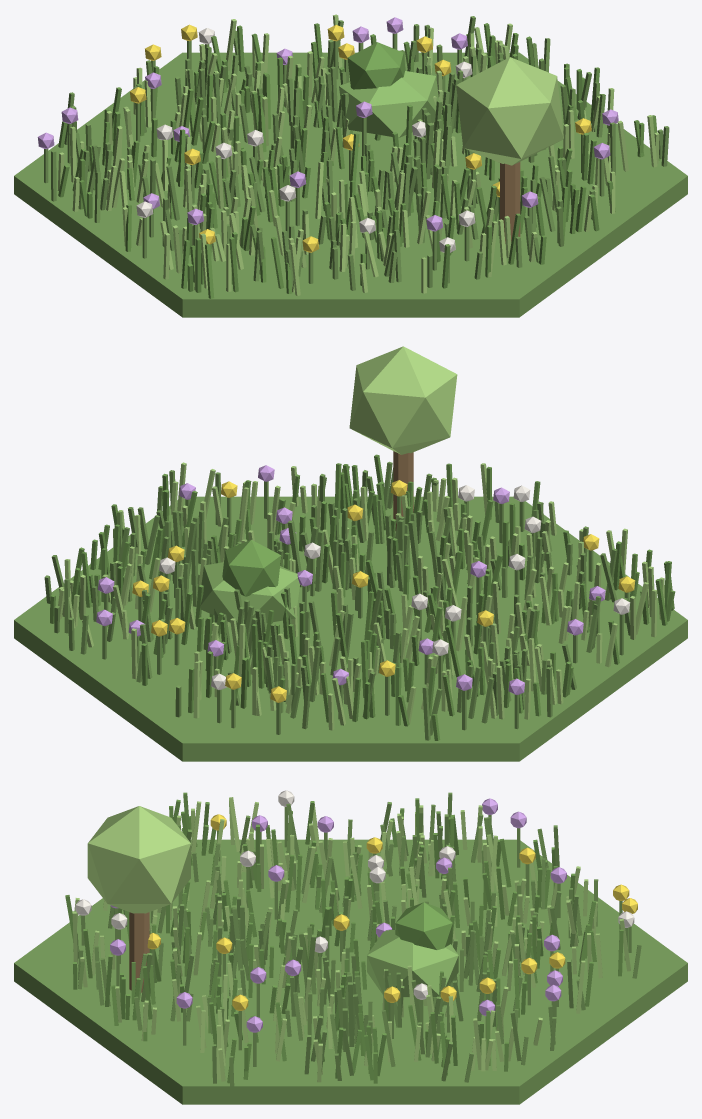
File: grass_to_forest.glb
The picture shows the model from 3 angles, top to bottom: view 1: azimuth 30°, elevation 25°; view 2: azimuth 150°, elevation 25°; view 3: azimuth 270°, elevation 25°; orthographic projection.
Parts seen in each view (by area): view 1: plate; view 2: plate; view 3: plate.
Boxes of the visible parts, x1,y1,x2,y2 form: plate: [14, 14, 687, 317]; plate: [14, 346, 687, 761]; plate: [14, 790, 687, 1104].
Size of the model in its own units: 1.73 by 0.66 by 2.
